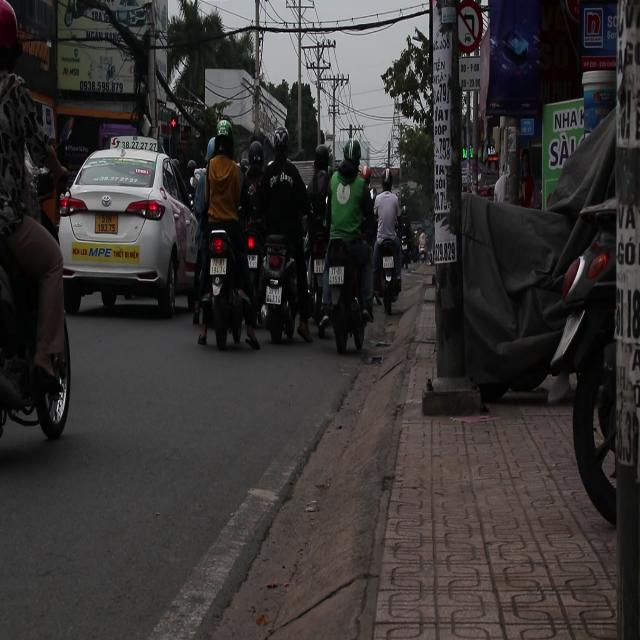car: (58, 140, 201, 318)
motorbike: (0, 224, 80, 425), (202, 218, 252, 360), (329, 241, 368, 366), (258, 233, 300, 344)
